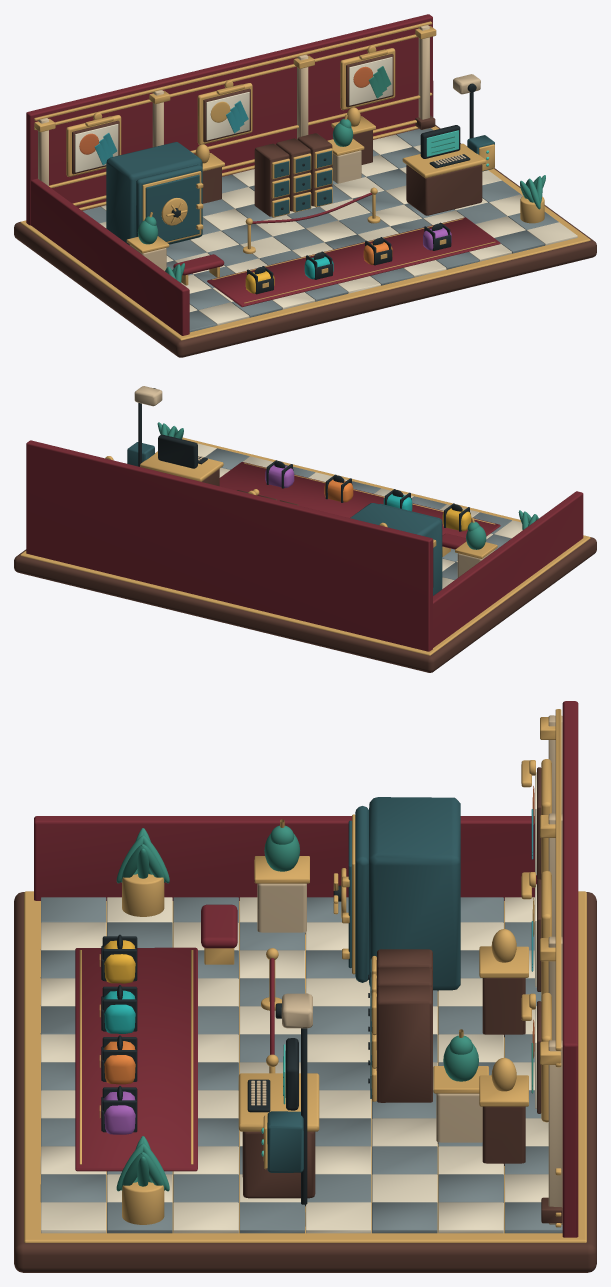
Rendered from museum.glb.
3 views of the same model, one above another, from view 1: azimuth 30°, elevation 25°; view 2: azimuth 150°, elevation 25°; view 3: azimuth 270°, elevation 25° (orthographic). The views are drawn at different scales.
Visible parts, largest first — view 1: MUS_Static_Oxblood Velvet, MUS_Static_Smoked Marble, MUS_Static_Ivory Marble, MUS_Static_Brushed Brass, MUS_Static_Walnut, MUS_Static_Limestone, Vault cabinet, VaultDoorPivot_Petrol_Enamel, Console body, POST_Loot_Walnut, POST_Loot_Petrol_Enamel, MUS_Static_Jade (+13 smaller); view 2: MUS_Static_Oxblood Velvet, MUS_Static_Walnut, MUS_Static_Brushed Brass, Vault cabinet, MUS_Static_Smoked Marble, POST_Security_Charcoal, MUS_Static_Ivory Marble, POST_Security_Brushed_Brass, MUS_Static_Jade, Duffel body.003, Duffel body.002, Camera housing (+2 smaller); view 3: MUS_Static_Oxblood Velvet, MUS_Static_Smoked Marble, MUS_Static_Ivory Marble, MUS_Static_Brushed Brass, MUS_Static_Walnut, Vault cabinet, MUS_Static_Limestone, POST_Loot_Walnut, MUS_Static_Jade, Console body, VaultDoorPivot_Petrol_Enamel, POST_Security_Brushed_Brass (+16 smaller).
Part boxes in pixels (x1,y1,x2,y2): MUS_Static_Oxblood Velvet: (26, 14, 500, 335); MUS_Static_Smoked Marble: (83, 128, 558, 332); MUS_Static_Ivory Marble: (99, 134, 577, 325); MUS_Static_Brushed Brass: (20, 21, 590, 340); MUS_Static_Walnut: (14, 115, 596, 357); MUS_Static_Limestone: (38, 25, 429, 270); Vault cabinet: (106, 142, 202, 245); VaultDoorPivot_Petrol_Enamel: (136, 164, 202, 244); Console body: (406, 164, 482, 215); POST_Loot_Walnut: (254, 133, 332, 216); POST_Loot_Petrol_Enamel: (274, 150, 331, 216); MUS_Static_Jade: (137, 118, 545, 282); MUS_Static_Oxblood Velvet: (26, 440, 583, 651); MUS_Static_Walnut: (14, 537, 596, 672); MUS_Static_Brushed Brass: (20, 437, 590, 655); Vault cabinet: (350, 503, 442, 595); MUS_Static_Smoked Marble: (205, 448, 511, 579); POST_Security_Charcoal: (138, 403, 207, 468); MUS_Static_Ivory Marble: (197, 443, 522, 588); POST_Security_Brushed_Brass: (140, 451, 223, 481); MUS_Static_Jade: (157, 422, 538, 549); Duffel body.003: (265, 465, 294, 487); Duffel body.002: (324, 479, 353, 502); Camera housing: (134, 386, 162, 406); MUS_Static_Oxblood Velvet: (34, 701, 578, 1237); MUS_Static_Smoked Marble: (40, 897, 562, 1233); MUS_Static_Ivory Marble: (40, 897, 548, 1233); MUS_Static_Brushed Brass: (24, 709, 586, 1242); MUS_Static_Walnut: (14, 892, 596, 1272); Vault cabinet: (369, 797, 460, 990); MUS_Static_Limestone: (257, 715, 562, 1224); POST_Loot_Walnut: (376, 949, 432, 1102); MUS_Static_Jade: (116, 825, 478, 1191); Console body: (242, 1131, 315, 1198); VaultDoorPivot_Petrol_Enamel: (348, 806, 368, 982); POST_Security_Brushed_Brass: (238, 1073, 319, 1169).
Size of the model in its own units: 12.8 by 3.86 by 8.8.
